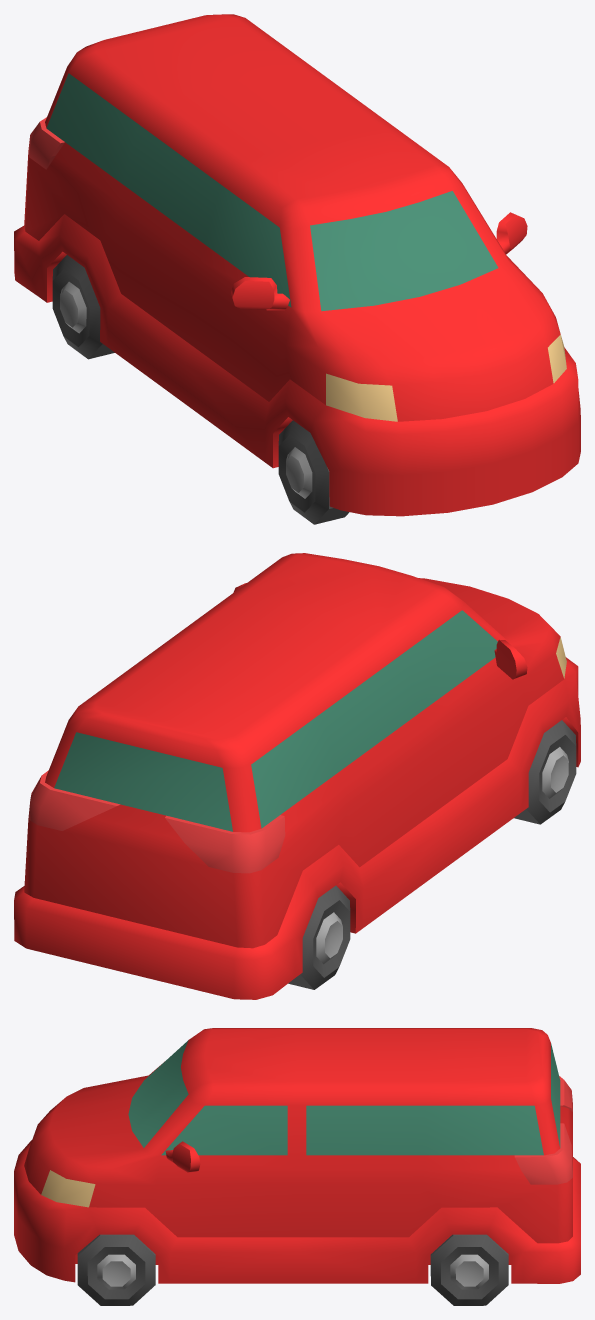
The model's file is Town_Vehicle_Minivan.FBX.
The picture shows the model from 3 angles, top to bottom: view 1: azimuth 30°, elevation 25°; view 2: azimuth 150°, elevation 25°; view 3: azimuth 270°, elevation 25°; orthographic projection. The views are drawn at different scales.
Visible parts, largest first — view 1: Vehicle_Minivan; view 2: Vehicle_Minivan; view 3: Vehicle_Minivan.
Part boxes in pixels (x1,y1,x2,y2): Vehicle_Minivan: (14,14,580,524); Vehicle_Minivan: (14,553,580,999); Vehicle_Minivan: (14,1028,580,1305).
Bounding box in the file's own units: 130 × 110 × 278.
